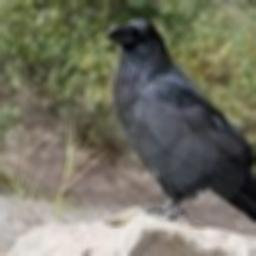Crow: (104, 18, 256, 253)
